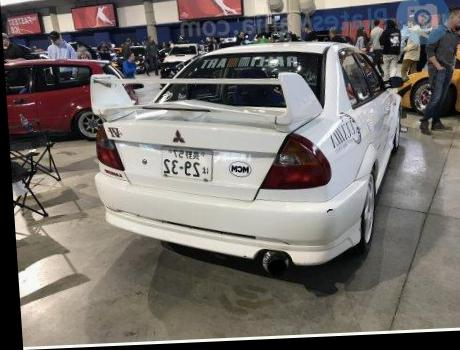License_Plate: (146, 145, 222, 187)
